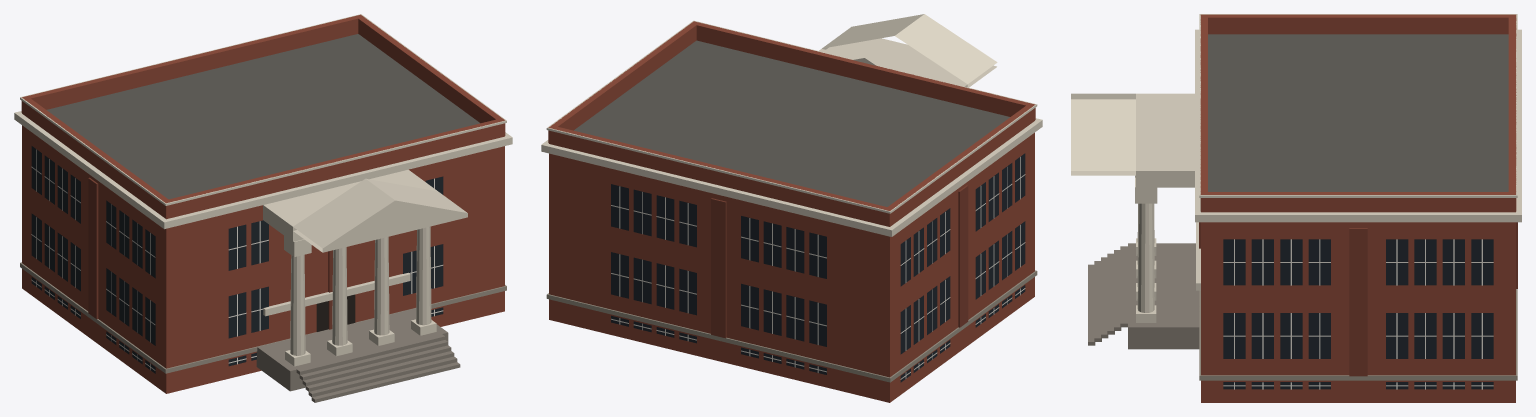
File: clendenin-school-1913.glb
3 views of the same model, side by side, from view 1: azimuth 30°, elevation 25°; view 2: azimuth 150°, elevation 25°; view 3: azimuth 270°, elevation 25° (orthographic). The views are drawn at different scales.
Visible parts, largest first — view 1: kit-clendenin-school-1913; view 2: kit-clendenin-school-1913; view 3: kit-clendenin-school-1913.
Part boxes in pixels (x1,y1,x2,y2): kit-clendenin-school-1913: [14, 14, 512, 402]; kit-clendenin-school-1913: [541, 14, 1042, 402]; kit-clendenin-school-1913: [1071, 14, 1521, 402].
Size of the model in its own units: 21.6 by 11.6 by 22.2.
